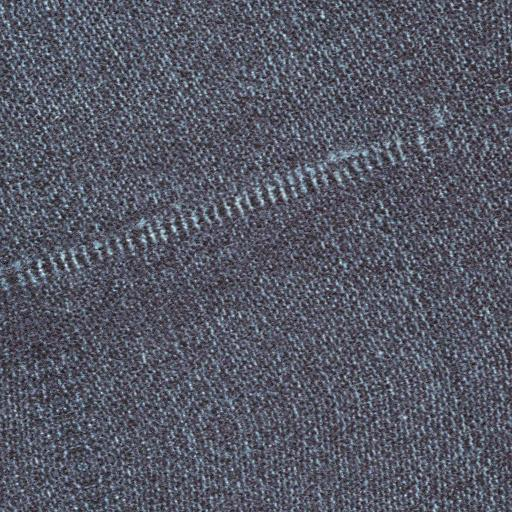slub: (3, 131, 446, 293)
